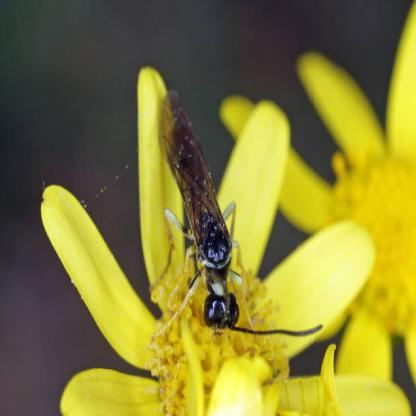sawfly: (152, 84, 284, 352)
